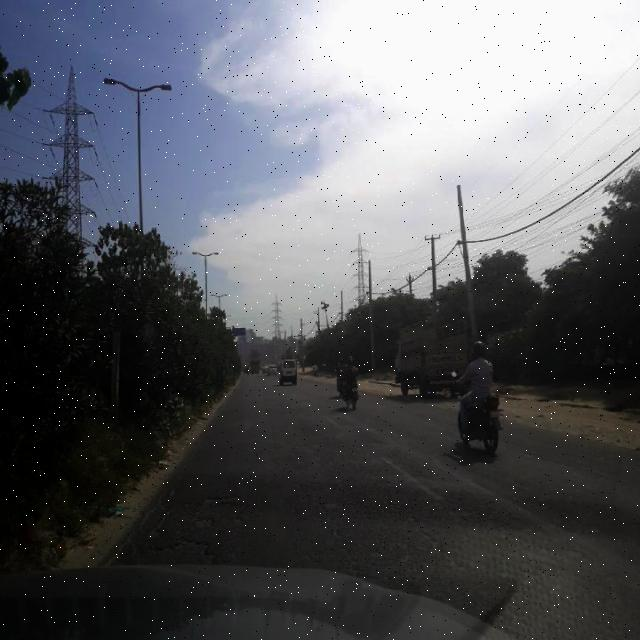D00: (114, 480, 180, 566)
D20: (156, 463, 630, 625)
D40: (142, 529, 220, 561), (187, 510, 224, 531)
